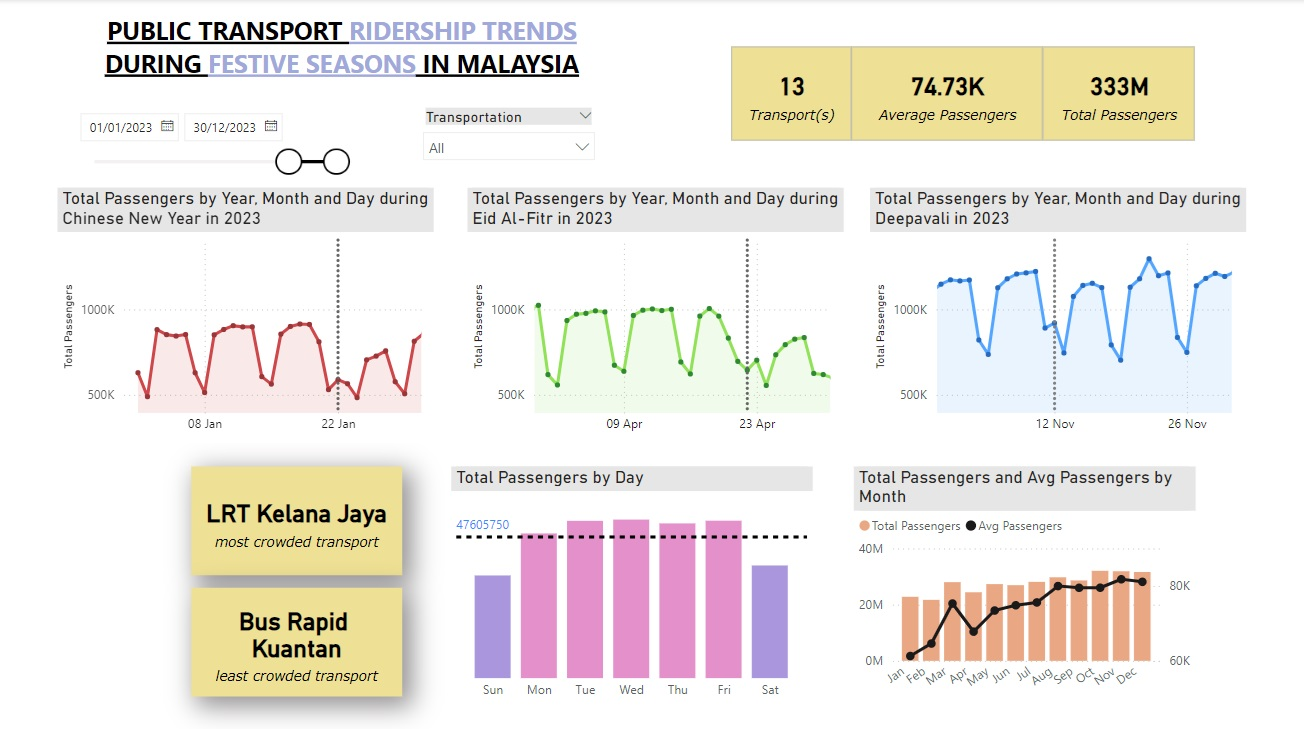

The dashboard page shown, as its layout file describes it:
{"tool":"powerbi","page":{"name":"FINAL","canvas":[1280,720],"ordinal":0},"visuals":[{"type":"textbox","box":[29.3,9.8,610.2,81.9],"z":0},{"type":"slicer","fields":{"Values":["Transports.Attribute"]},"box":[403.5,101.5,188.3,75.8],"z":1000},{"type":"card","fields":{"Values":["Transports.Total Passengers"]},"box":[1019.8,46.5,149.2,91.7],"z":2000},{"type":"card","fields":{"Values":["Count(Transports.Attribute)"]},"box":[715.4,47,117.4,91.7],"z":3000},{"type":"card","fields":{"Values":["Transports.Avg Passengers"]},"box":[832.7,47,187.1,91.7],"z":4000},{"type":"clusteredColumnChart","fields":{"Category":["date.Weekday"],"Y":["Transports.Total Passengers"]},"box":[441.9,457.6,353.4,237.2],"z":5000},{"type":"lineChart","title":"Total Passengers by Year, Month and Day during Eid Al-Fitr in 2023","fields":{"Category":["ridership_headline.date.Variation.Date Hierarchy.Year","ridership_headline.date.Variation.Date Hierarchy.Month","ridership_headline.date.Variation.Date Hierarchy.Day"],"Y":["Transports.Total Passengers"]},"box":[457,184.6,368.1,249.5],"z":6000},{"type":"slicer","fields":{"Values":["ridership_headline.date"]},"box":[66,101.5,299.6,75.8],"z":7000},{"type":"card","fields":{"Values":["ridership_headline.crowded transport"]},"box":[187.1,457.3,206.7,106.4],"z":8000},{"type":"card","fields":{"Values":["ridership_headline.least crowded transport"]},"box":[187.1,576,206.7,106.4],"z":9000},{"type":"lineStackedColumnComboChart","title":"Total and Avg Passengers by Month","fields":{"Category":["date.Month"],"Y":["Transports.Total Passengers"],"Y2":["Transports.Avg Passengers"]},"box":[825.4,457.3,343.6,237.2],"z":10000},{"type":"lineChart","title":"Total Passengers by Year, Month and Day during Chinese New Year in 2023","fields":{"Category":["ridership_headline.date.Variation.Date Hierarchy.Year","ridership_headline.date.Variation.Date Hierarchy.Month","ridership_headline.date.Variation.Date Hierarchy.Day"],"Y":["Transports.Total Passengers"]},"box":[55.9,184.6,368.1,249.5],"z":12000},{"type":"lineChart","title":"Total Passengers by Year, Month and Day during Deepavali in 2023","fields":{"Category":["ridership_headline.date.Variation.Date Hierarchy.Year","ridership_headline.date.Variation.Date Hierarchy.Month","ridership_headline.date.Variation.Date Hierarchy.Day"],"Y":["Transports.Total Passengers"]},"box":[850.6,184.2,368.1,249.5],"z":13000}]}

Visuals, with their boxes in screenshot pixels (x1, y1, x2, y2), scaled from the page's 1280x720 canvas onto the 1304x729 screenshot:
textbox: locate(30, 10, 651, 93)
slicer - Transports.Attribute: locate(411, 103, 603, 180)
card - Transports.Total Passengers: locate(1039, 47, 1191, 140)
card - Count(Transports.Attribute): locate(729, 48, 848, 140)
card - Transports.Avg Passengers: locate(848, 48, 1039, 140)
clusteredColumnChart - date.Weekday x Transports.Total Passengers: locate(450, 463, 810, 703)
"Total Passengers by Year, Month and Day during Eid Al-Fitr in 2023" lineChart: locate(466, 187, 841, 440)
slicer - ridership_headline.date: locate(67, 103, 372, 180)
card - ridership_headline.crowded transport: locate(191, 463, 401, 571)
card - ridership_headline.least crowded transport: locate(191, 583, 401, 691)
"Total and Avg Passengers by Month" lineStackedColumnComboChart: locate(841, 463, 1191, 703)
"Total Passengers by Year, Month and Day during Chinese New Year in 2023" lineChart: locate(57, 187, 432, 440)
"Total Passengers by Year, Month and Day during Deepavali in 2023" lineChart: locate(867, 187, 1242, 439)
